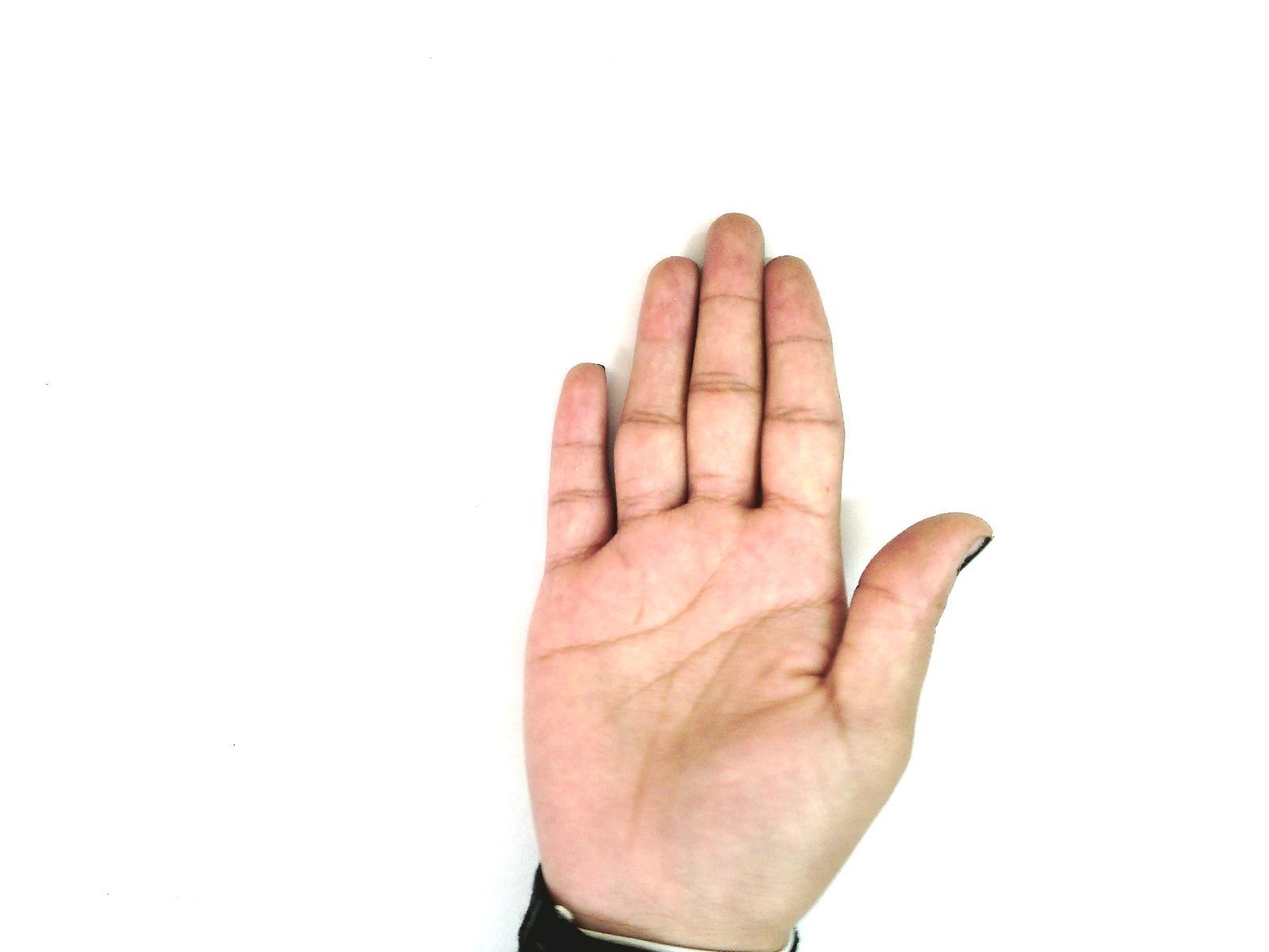open_palm: (518, 212, 995, 950)
